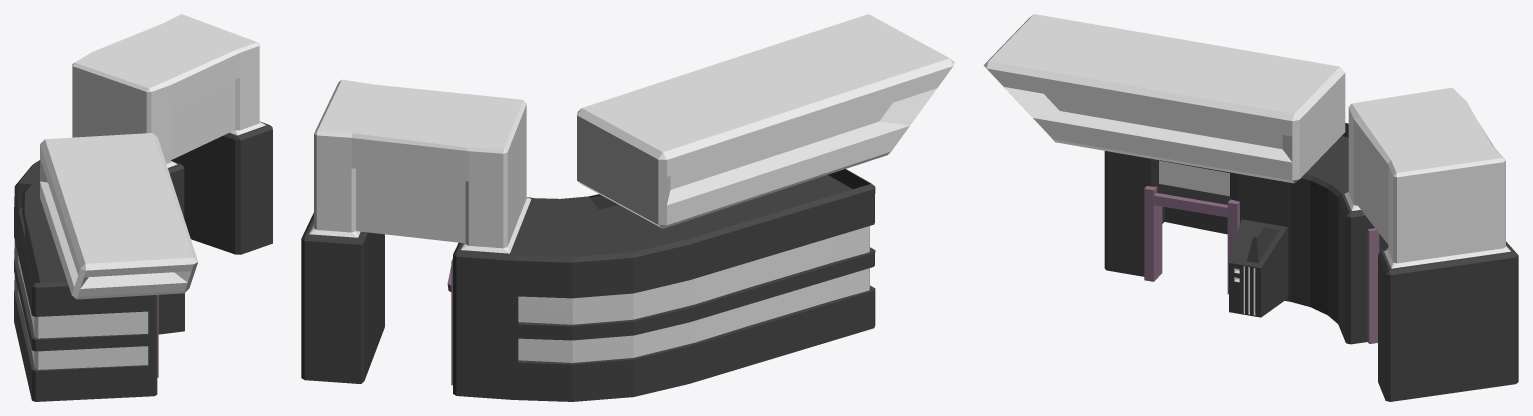
File: Spider Island Level 1 Big Building.fbx
The picture shows the model from 3 angles, left to right: view 1: azimuth 30°, elevation 25°; view 2: azimuth 150°, elevation 25°; view 3: azimuth 270°, elevation 25°; orthographic projection. The views are drawn at different scales.
Visible parts, largest first — view 1: Big Bulding; view 2: Big Bulding; view 3: Big Bulding.
Part boxes in pixels (left/top/right/bottom): Big Bulding: left=14, top=14, right=272, bottom=401; Big Bulding: left=301, top=14, right=954, bottom=401; Big Bulding: left=983, top=14, right=1518, bottom=401.
Bounding box in the file's own units: 22.94 × 12.49 × 27.24.
